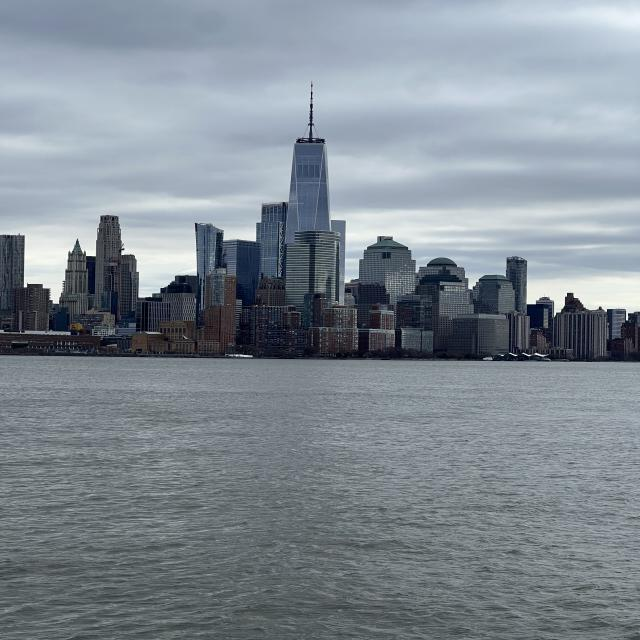WTC: (284, 81, 332, 233)
